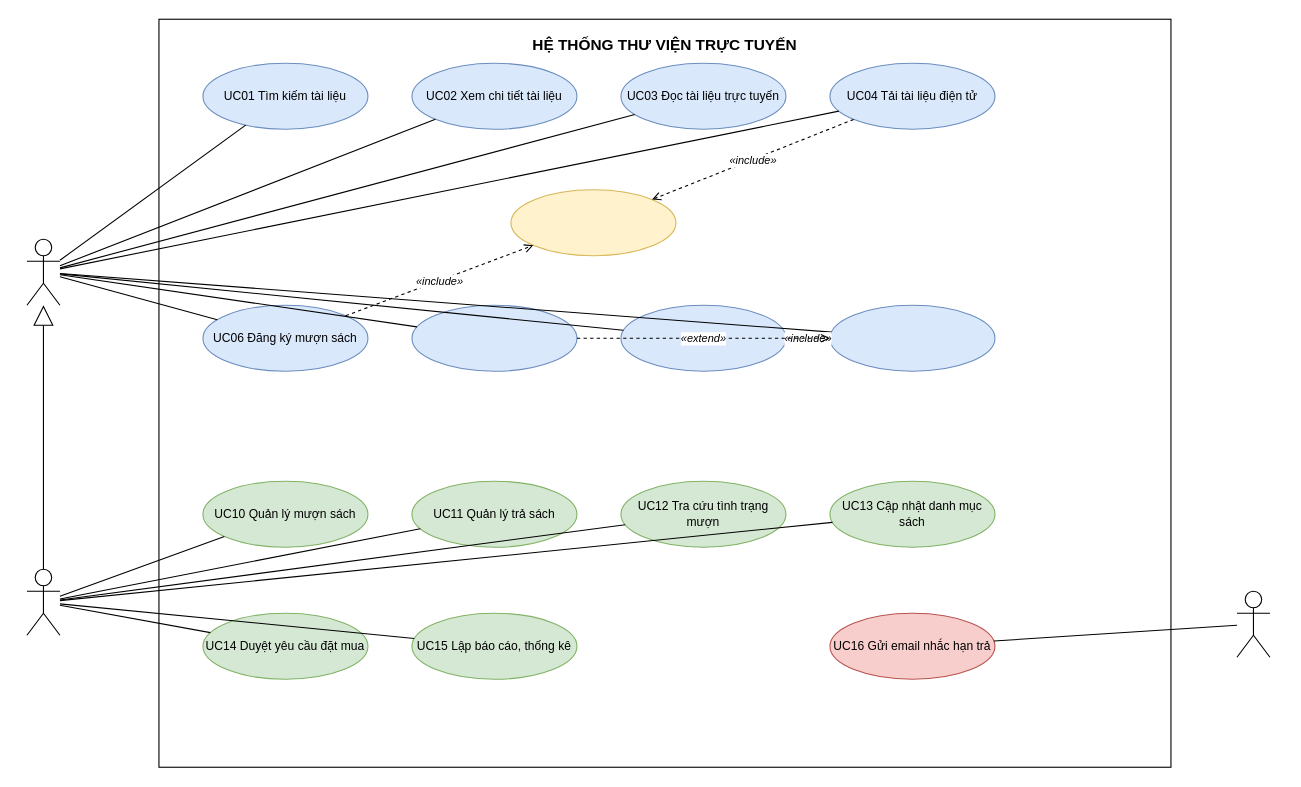
This 1301x787 diagram has some shape labels left out. The shapes that lost their labels are listed below. From the top down, each one's centre as x and y in pixels, then its label:
At point (593, 222): "UC05 Nhập mã thẻ thư viện".
At point (43, 271): "Độc giả".
At point (494, 337): "UC07 Đăng ký tài khoản".
At point (703, 337): "UC08 Đăng nhập".
At point (912, 337): "UC09 Đặt mua tài liệu".
At point (43, 601): "Thủ thư".
At point (1253, 623): "Hệ thống".
